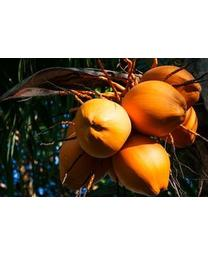coconut: (72, 94, 134, 158), (122, 81, 186, 136), (115, 133, 168, 194), (58, 135, 109, 188), (138, 64, 202, 106)
